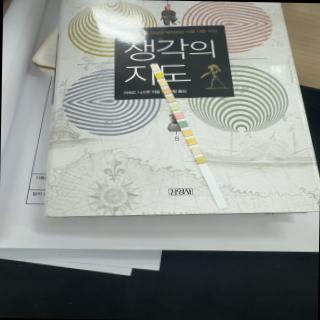mark: (182, 129, 192, 136), (196, 156, 205, 163), (174, 112, 184, 118), (190, 148, 200, 154), (150, 64, 159, 70), (178, 120, 187, 126), (187, 138, 196, 144), (155, 72, 163, 78), (159, 80, 167, 86), (162, 88, 170, 94), (166, 96, 174, 102), (170, 104, 178, 110)
